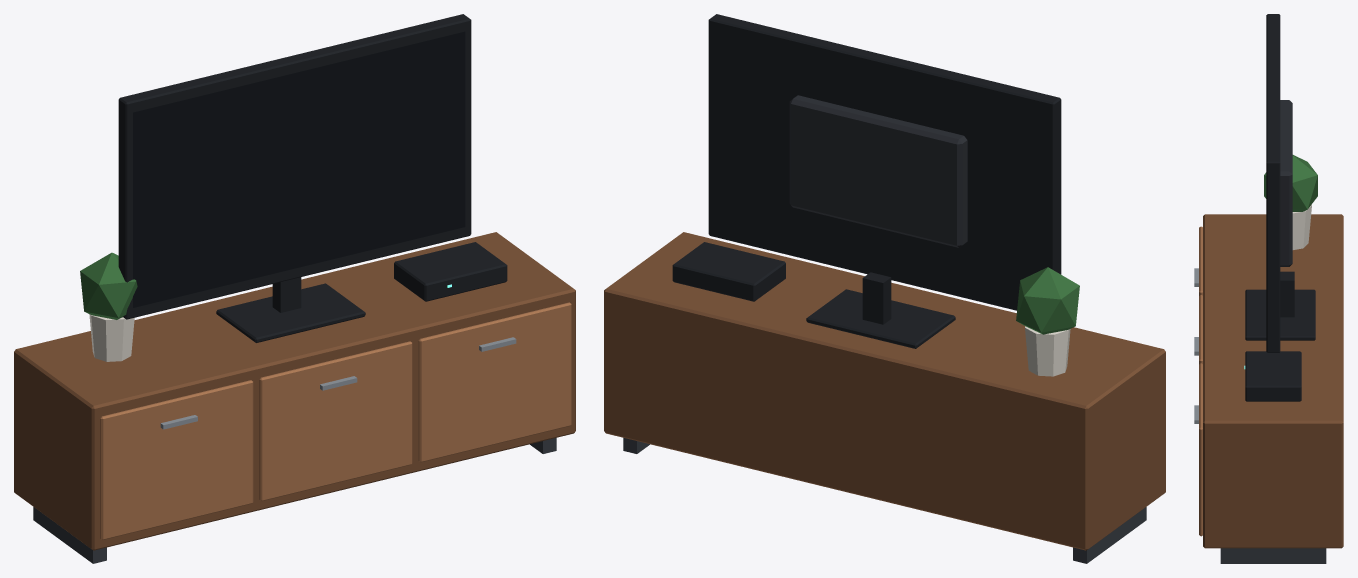
The model's file is tv_console.glb.
The picture shows the model from 3 angles, left to right: view 1: azimuth 30°, elevation 25°; view 2: azimuth 150°, elevation 25°; view 3: azimuth 270°, elevation 25°; orthographic projection. The views are drawn at different scales.
Parts seen in each view (by area): view 1: ConsoleBody, Screen, TVBody; view 2: ConsoleBody, TVBody; view 3: ConsoleBody, TVBody.
Boxes of the visible parts, x1=… form: ConsoleBody: x1=14, y1=232, x2=575, y2=563; Screen: x1=133, y1=31, x2=465, y2=307; TVBody: x1=118, y1=14, x2=471, y2=342; ConsoleBody: x1=604, y1=232, x2=1165, y2=563; TVBody: x1=708, y1=14, x2=1061, y2=348; ConsoleBody: x1=1194, y1=155, x2=1343, y2=563; TVBody: x1=1245, y1=14, x2=1315, y2=352.
Size of the model in its own units: 1.4 by 1.18 by 0.425.
